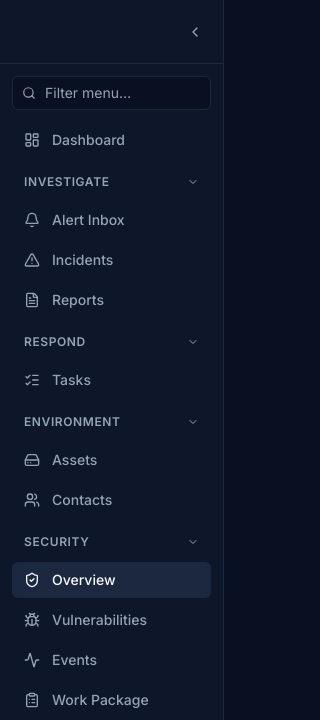
Test: AppSidebar › collapses Security section items when toggle is clicked
The width and height of the screenshot is (320, 720).
Expected: the link "Overview" is shown, [12,562,211,598]
Click the button "Security". click: (112, 542)
box: [12,526,211,558]
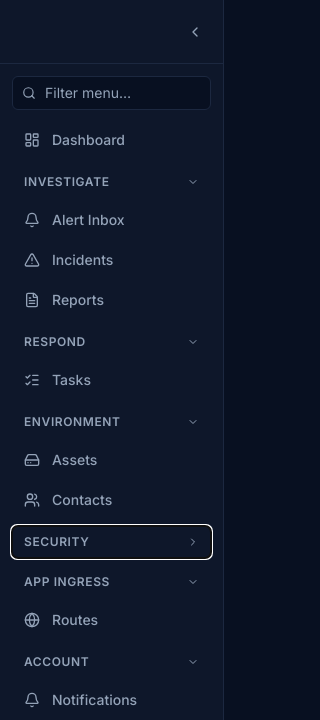
Now the link "Overview" is gone
Now the link "Vulnerabilities" is gone
